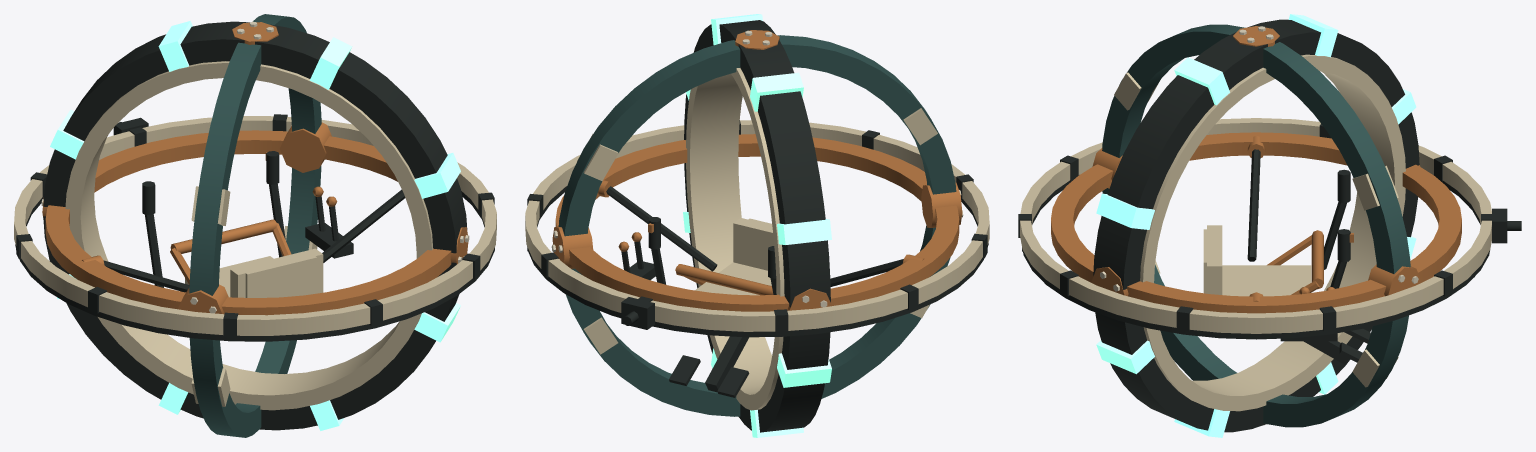
Rendered from ball_look_gyro.glb.
3 renders of one model, left to right at view 1: azimuth 30°, elevation 25°; view 2: azimuth 150°, elevation 25°; view 3: azimuth 270°, elevation 25°, orthographic. The views are drawn at different scales.
Parts seen in each view (by area): view 1: Core, WeaponRing, Pod; view 2: Core, WeaponRing, Pod; view 3: Core, WeaponRing, Pod.
Part boxes in pixels (<box>): Core: <box>41,14,469,437</box>; WeaponRing: <box>14,114,496,341</box>; Pod: <box>82,151,405,297</box>; Core: <box>551,14,963,437</box>; WeaponRing: <box>525,120,989,337</box>; Pod: <box>598,180,924,397</box>; Core: <box>1051,14,1461,437</box>; WeaponRing: <box>1018,118,1521,339</box>; Pod: <box>1203,135,1370,364</box>.
Size of the model in its own units: 2.16 by 1.94 by 2.3.
